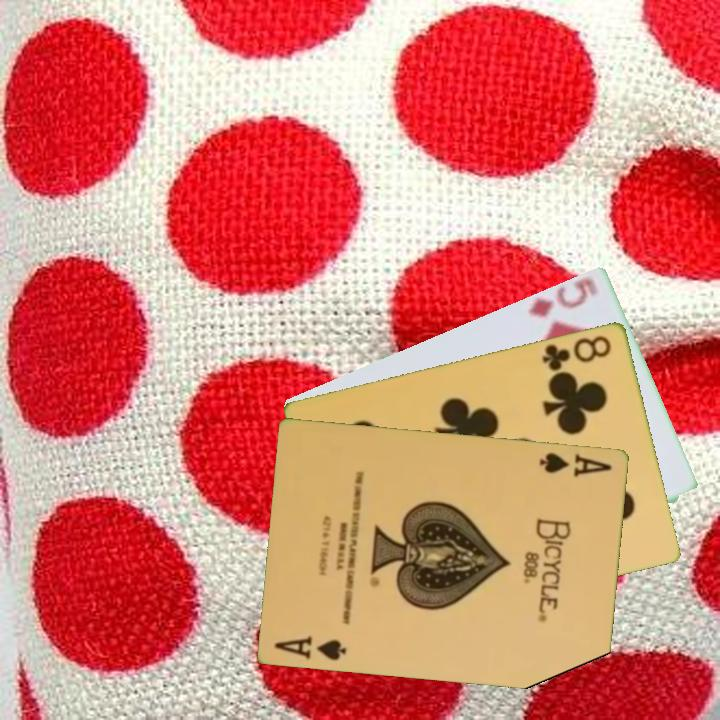5d: (525, 274, 601, 320)
8c: (539, 331, 615, 374)
As: (537, 448, 615, 480), (271, 632, 350, 663)
